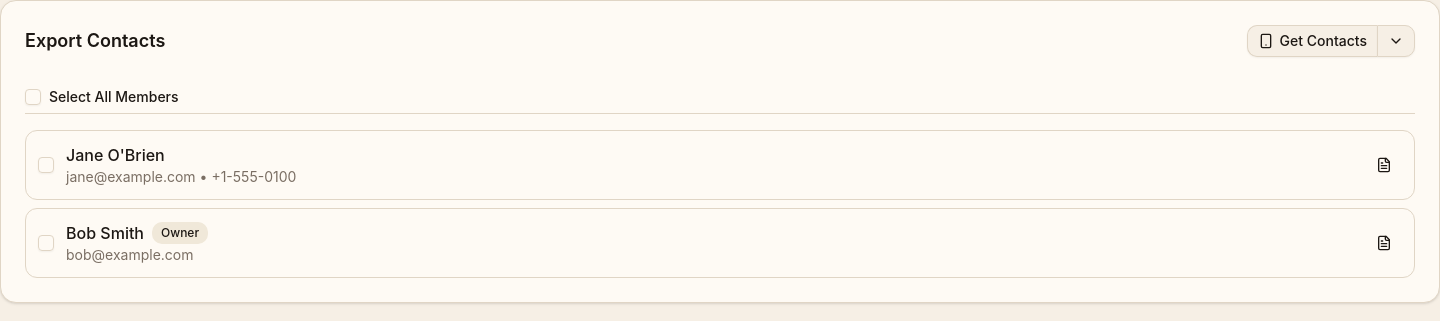
it: UI rendering › shows Export All option in dropdown on desktop
Expected: the text "Jane O'Brien" is shown, [66,143,165,167]
Step 1. Click the button named "Export options" → [1396, 41], box [1377,25,1415,57]
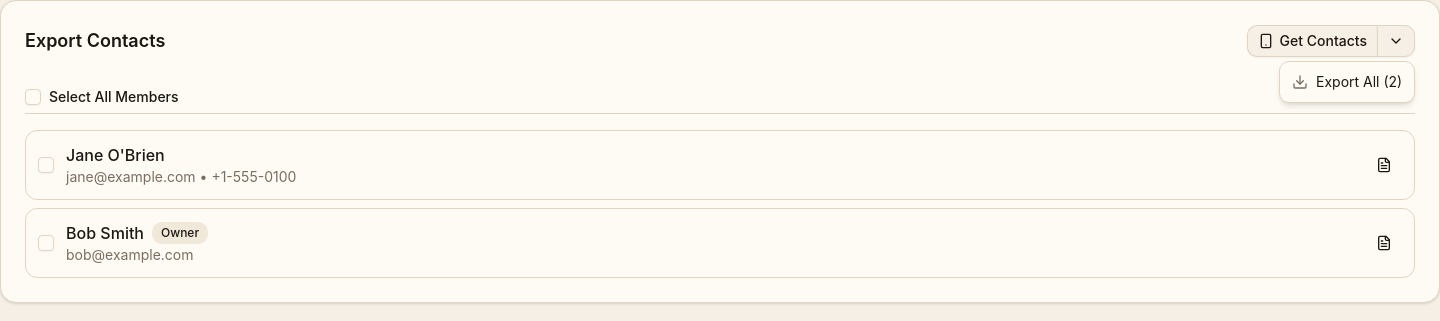
Now the menu item "Export All (2)" is shown, box [1292,73,1402,90]
